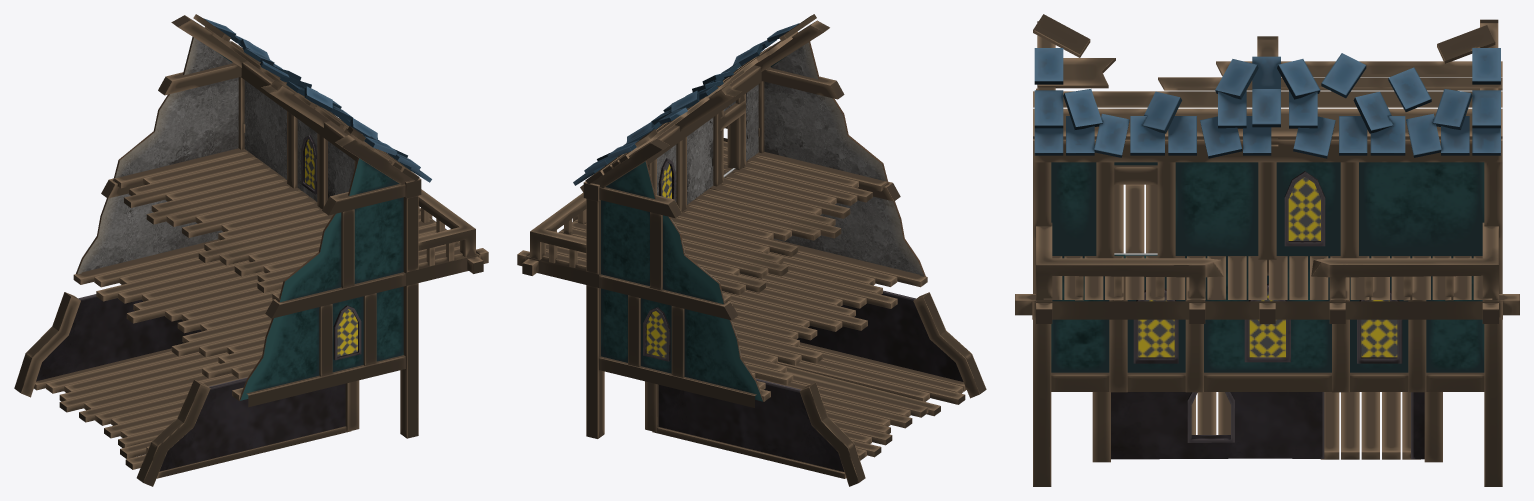
File: CasaDestruida2.fbx
3 views of the same model, side by side, from view 1: azimuth 30°, elevation 25°; view 2: azimuth 150°, elevation 25°; view 3: azimuth 270°, elevation 25° (orthographic). The views are drawn at different scales.
Parts seen in each view (by area): view 1: CasaDestruc2; view 2: CasaDestruc2; view 3: CasaDestruc2.
Part boxes in pixels (x1,y1,x2,y2): CasaDestruc2: (14, 14, 488, 486); CasaDestruc2: (517, 14, 986, 486); CasaDestruc2: (1015, 14, 1519, 486).
Size of the model in its own units: 902 by 865 by 893.
